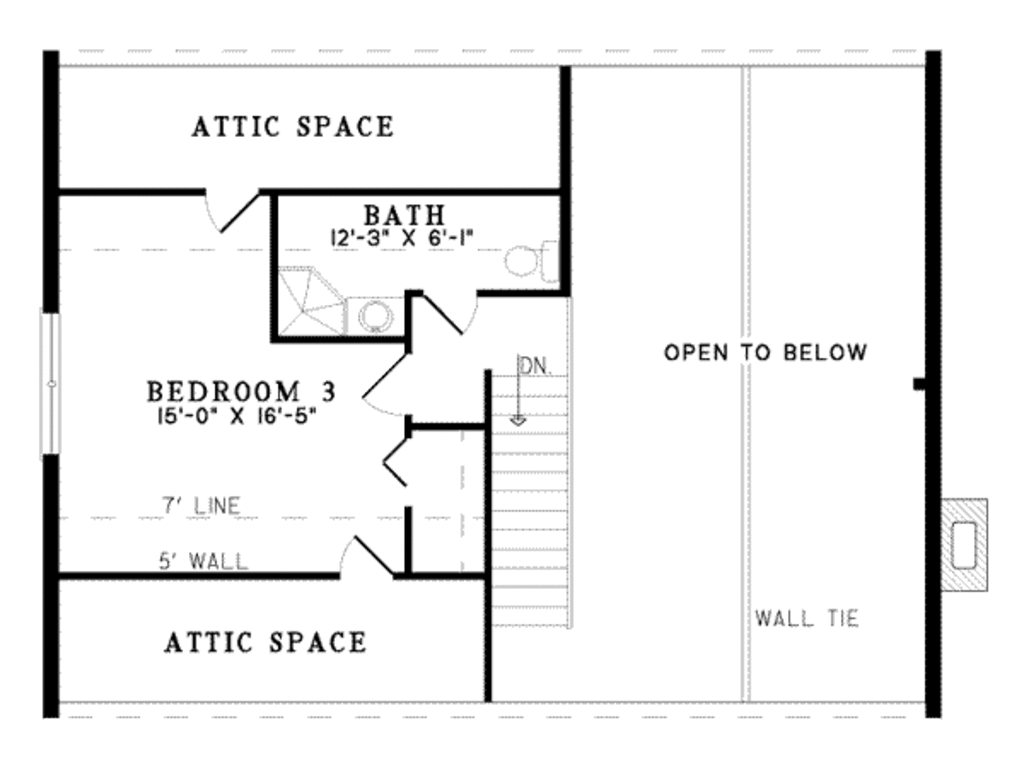door: (317, 520, 405, 582), (359, 350, 415, 423), (195, 185, 260, 241), (420, 280, 487, 334)
large_sink: (494, 238, 564, 288)
small_sink: (343, 294, 405, 337)
stairs: (491, 364, 580, 631)
window: (37, 310, 63, 460)
